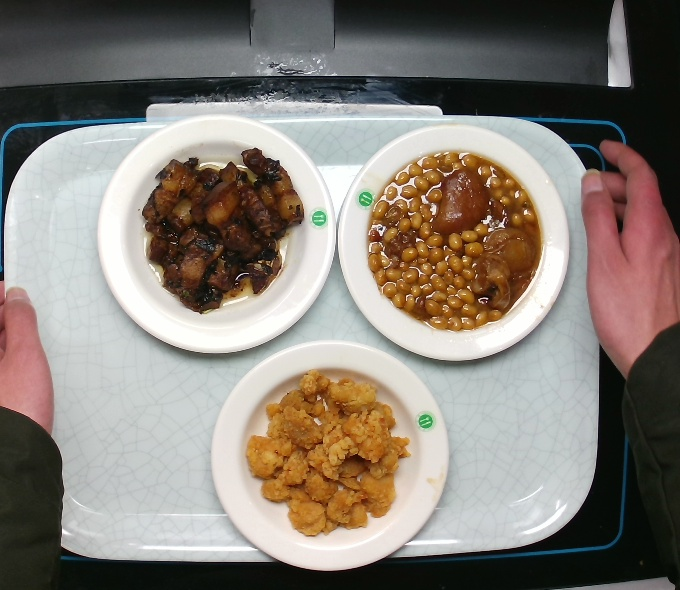wcq-GanCaiRou: (141, 147, 304, 314)
wcq-HuangDouZhuJiao: (364, 147, 544, 332)
wcq-JiMiHua: (244, 370, 411, 537)
